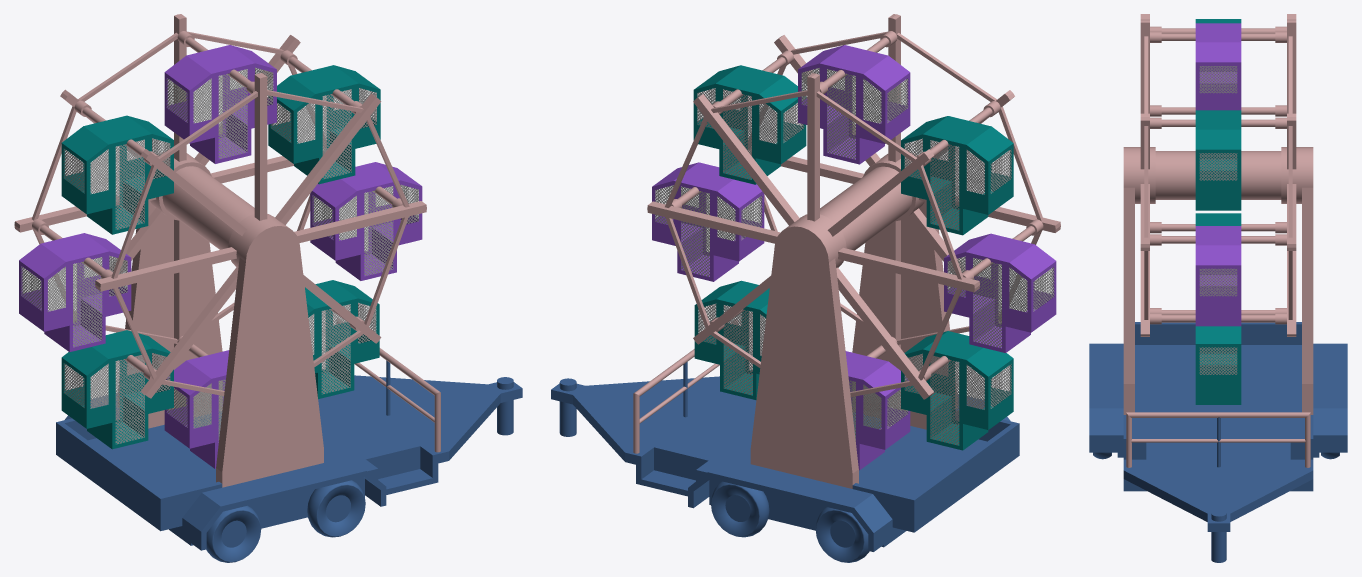
Rendered from Ferris Wheel.fbx.
3 renders of one model, left to right at view 1: azimuth 30°, elevation 25°; view 2: azimuth 150°, elevation 25°; view 3: azimuth 270°, elevation 25°, orthographic. The views are drawn at different scales.
Visible parts, largest first — view 1: Group2, Group18, Component_25_8, Component_25_3, Component_25_2, Component_25_7, Component_25_4, Component_25_5, Group20, Group19, Component_25_1, Component_25_6 (+19 smaller); view 2: Group2, Group20, Component_25_8, Component_25_3, Component_25_2, Component_25_7, Component_25_4, Component_25_5, Group18, Component_25_1, Component_25_6, Group_105_2 (+19 smaller); view 3: Group2, Group19, Component_25_4, Component_25_5, Component_25_7, Component_25_1, Group18, Group20, Group3, Group_105_1, Group_105_2, Group21 (+18 smaller).
Part boxes in pixels (<box>): Group2: <box>56,360,522,550</box>; Group18: <box>216,250,323,487</box>; Component_25_8: <box>19,233,131,352</box>; Component_25_3: <box>61,115,173,234</box>; Component_25_2: <box>61,330,173,449</box>; Component_25_7: <box>164,45,276,163</box>; Component_25_4: <box>268,65,380,184</box>; Component_25_5: <box>310,162,422,280</box>; Group20: <box>117,201,222,428</box>; Group19: <box>162,166,300,284</box>; Component_25_1: <box>305,280,379,399</box>; Component_25_6: <box>164,350,229,468</box>; Group2: <box>551,362,1019,551</box>; Group20: <box>750,250,858,488</box>; Component_25_8: <box>944,233,1056,353</box>; Component_25_3: <box>901,116,1013,235</box>; Component_25_2: <box>901,331,1013,450</box>; Component_25_7: <box>798,45,910,164</box>; Component_25_4: <box>693,65,806,184</box>; Component_25_5: <box>652,162,764,281</box>; Group18: <box>852,201,957,429</box>; Component_25_1: <box>694,280,769,399</box>; Component_25_6: <box>845,351,910,470</box>; Group_105_2: <box>665,90,963,396</box>; Group2: <box>1089,322,1347,562</box>; Group19: <box>1123,147,1281,203</box>; Component_25_4: <box>1195,110,1241,210</box>; Component_25_5: <box>1195,226,1241,326</box>; Component_25_7: <box>1195,23,1241,110</box>; Component_25_1: <box>1195,326,1241,404</box>; Group18: <box>1123,187,1134,414</box>; Group20: <box>1302,187,1313,414</box>; Group3: <box>1126,412,1310,467</box>; Group_105_1: <box>1144,36,1148,319</box>; Group_105_2: <box>1288,36,1292,319</box>; Group21: <box>1281,147,1313,203</box>.
Size of the model in its own units: 6.79 by 6.1 by 3.45.
